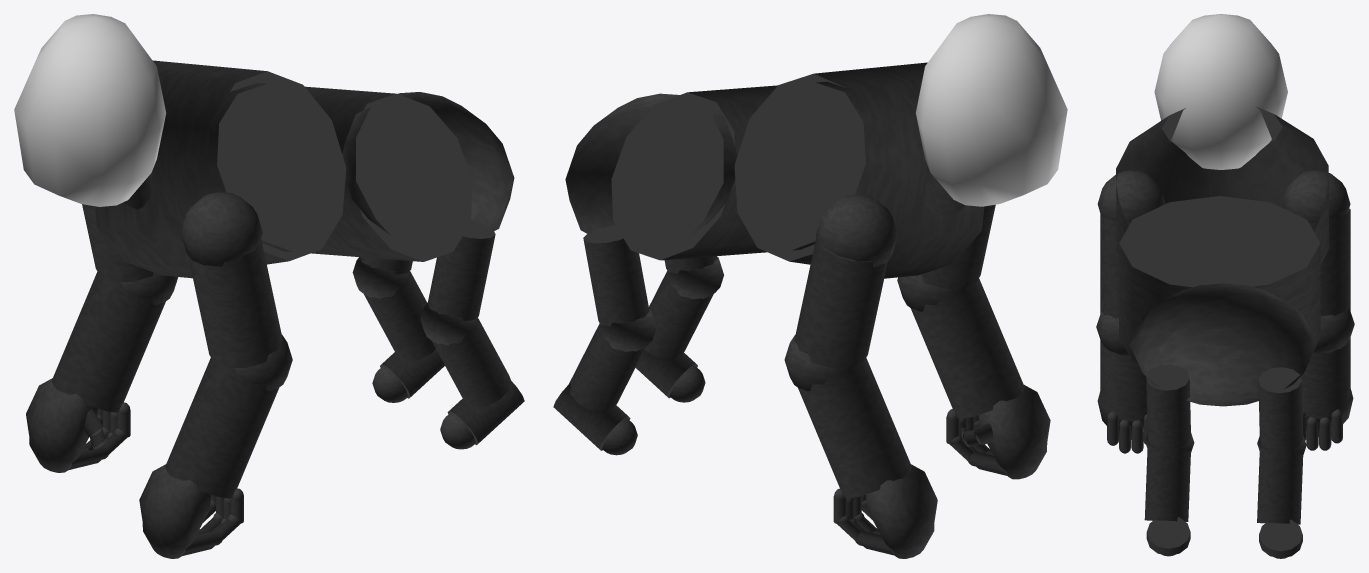
Rendered from armored_gorilla90.fbx.
3 renders of one model, left to right at view 1: azimuth 30°, elevation 25°; view 2: azimuth 150°, elevation 25°; view 3: azimuth 270°, elevation 25°, orthographic. The views are drawn at different scales.
Parts seen in each view (by area): view 1: gorilla_chest&shoulders, gorilla_lower_torso, gorilla_larm&lhand, gorilla_head, gorilla_rarm, gorilla_lleg, gorilla_rleg, gorilla_rhand; view 2: gorilla_chest&shoulders, gorilla_lower_torso, gorilla_head, gorilla_larm&lhand, gorilla_rarm, gorilla_rleg, gorilla_lleg, gorilla_rhand; view 3: gorilla_lower_torso, gorilla_chest&shoulders, gorilla_head, gorilla_lleg, gorilla_rleg, gorilla_rarm, gorilla_larm&lhand, gorilla_rhand.
Part boxes in pixels (x1,y1,x2,y2): gorilla_chest&shoulders: (95,60,346,278); gorilla_lower_torso: (207,83,514,261); gorilla_larm&lhand: (139,239,292,558); gorilla_head: (14,14,166,206); gorilla_rarm: (51,172,178,412); gorilla_lleg: (420,220,524,449); gorilla_rleg: (352,257,444,402); gorilla_rhand: (26,378,130,472); gorilla_chest&shoulders: (734,62,984,278); gorilla_lower_torso: (565,81,875,260); gorilla_head: (915,14,1067,206); gorilla_larm&lhand: (897,165,1050,479); gorilla_rarm: (784,237,911,498); gorilla_rleg: (553,225,656,455); gorilla_lleg: (635,256,723,402); gorilla_rhand: (833,464,937,558); gorilla_lower_torso: (1119,196,1320,406); gorilla_chest&shoulders: (1097,106,1350,264); gorilla_head: (1154,14,1287,169); gorilla_lleg: (1144,364,1194,556); gorilla_rleg: (1257,367,1306,558); gorilla_rarm: (1300,208,1354,418); gorilla_larm&lhand: (1096,213,1147,453); gorilla_rhand: (1302,389,1353,450).
Size of the model in its own units: 264 by 270 by 152.
